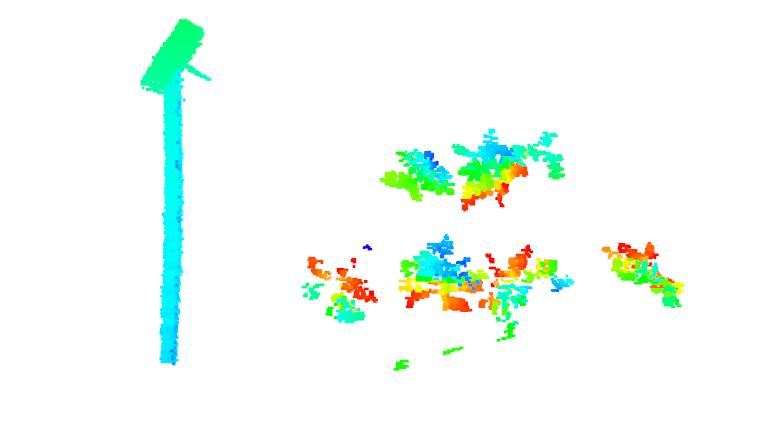chickpea: (477, 242, 576, 320), (399, 238, 483, 317), (450, 129, 530, 207), (602, 239, 686, 310), (304, 253, 380, 324), (376, 149, 455, 203), (527, 127, 567, 181)
